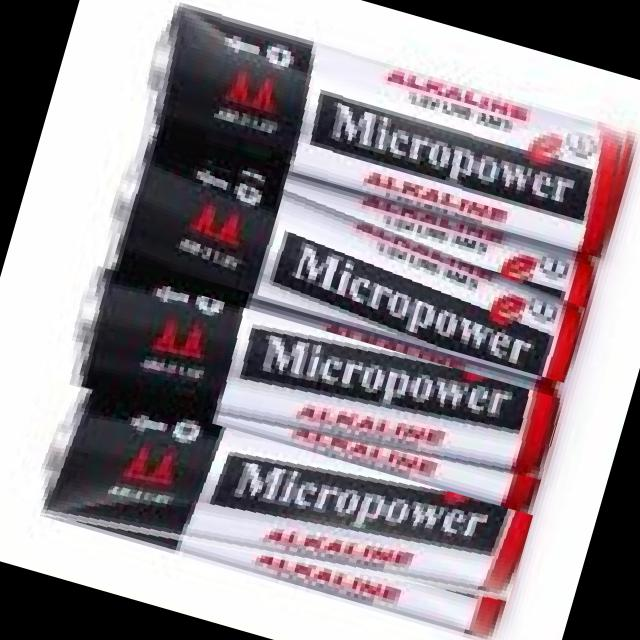Hazard: (9, 375, 532, 640), (81, 122, 598, 382), (50, 260, 565, 518), (132, 0, 640, 257)
